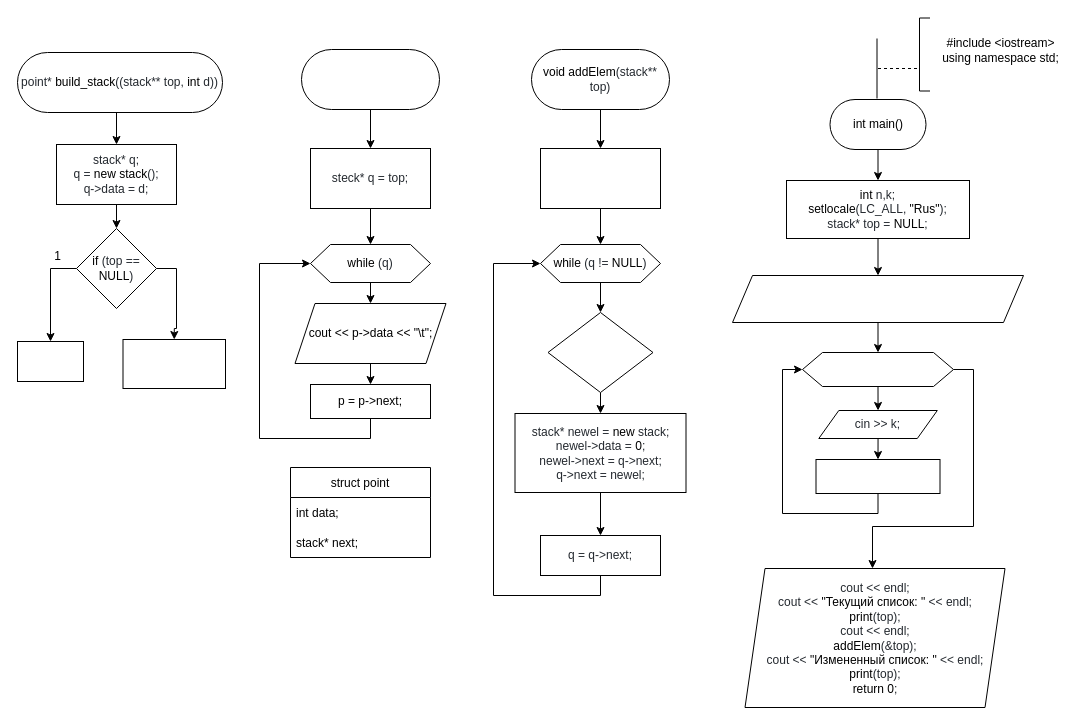
Some shapes in this 1082 by 725 pixel diagram are drawn without their labels. The shapes that lost their labels are listed below. From the top down, each one's centre as x and y in pixels, then its label:
(370,79): void print (stack* top)
(600,178): stack* q = *top;
(878,298): cout << " Введите количество элементов: " ; cin >> n;
(50,361): *top = q;
(174,363): q-> next = *top; *top = q;
(600,352): if (q-> data < 0 )
(878,369): for ( int i = 0 ; i < n; i++)
(877,476): build_steck (&top, k);
